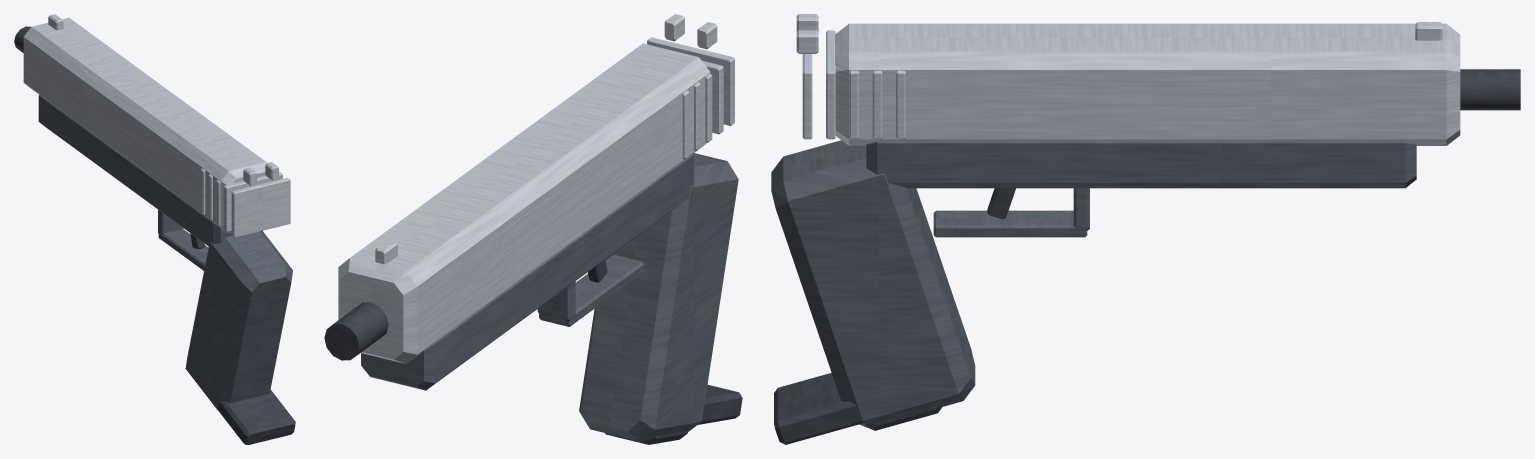
The model's file is weapon_deagle.glb.
3 renders of one model, left to right at view 1: azimuth 30°, elevation 25°; view 2: azimuth 150°, elevation 25°; view 3: azimuth 270°, elevation 25°, orthographic. The views are drawn at different scales.
Visible parts, largest first — view 1: Bolt, WeaponRoot, Magazine; view 2: Bolt, WeaponRoot, Magazine; view 3: Bolt, WeaponRoot, Magazine.
Boxes of the visible parts, x1,y1,x2,y2 form: Bolt: (23, 14, 290, 237); WeaponRoot: (14, 26, 292, 409); Magazine: (218, 390, 295, 444); Bolt: (338, 14, 734, 363); WeaponRoot: (324, 153, 738, 441); Magazine: (605, 385, 742, 444); Bolt: (796, 14, 1460, 145); WeaponRoot: (771, 69, 1520, 427); Magazine: (774, 373, 941, 444).
Size of the model in its own units: 0.0365 by 0.1627 by 0.2732.
Materials: 3 (3 with a texture image).
